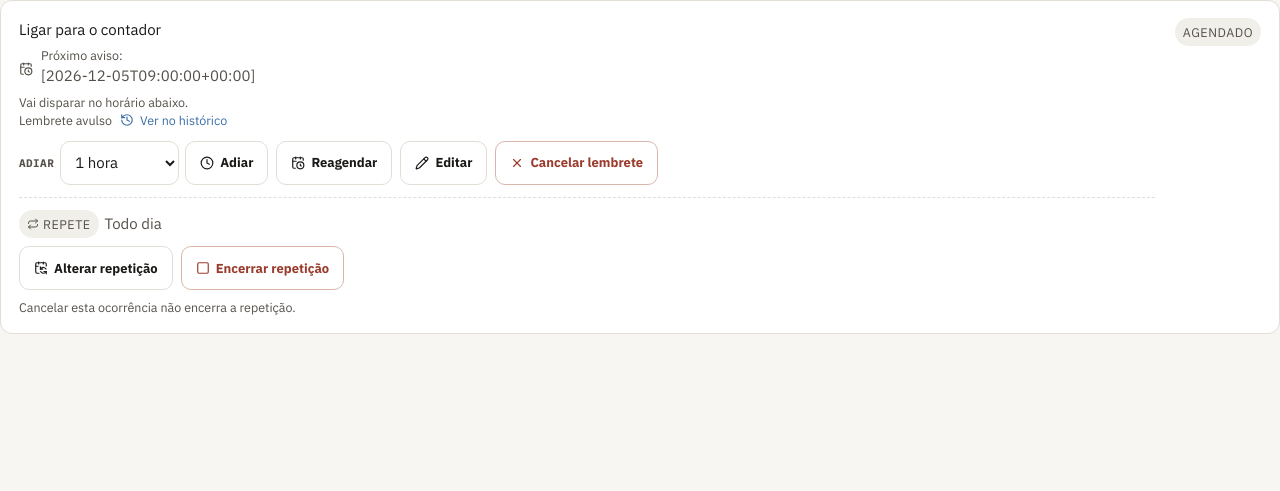
it: cancelling an occurrence that carries a rule › warns that this occurrence cannot be reactivated
This screenshot has width=1280, height=491.
Click the button "Cancelar lembrete": (577, 163) 495,141 -> 658,185
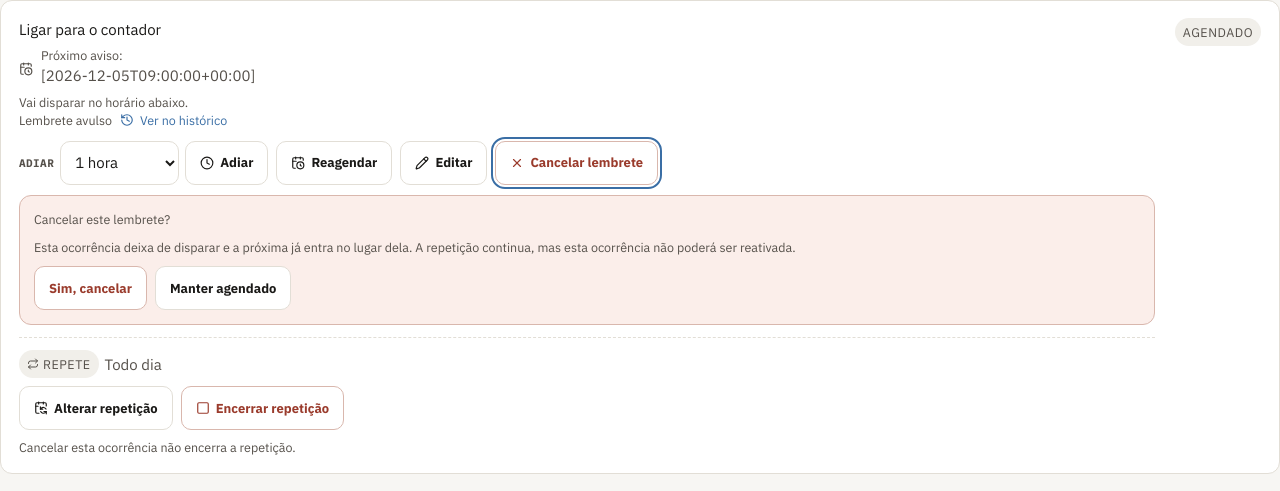
Now the text "Esta ocorrência deixa de disparar e a próxima já entra no lugar dela. A repetição continua, mas esta ocorrência não pode" is shown, box 34,239 -> 796,255
